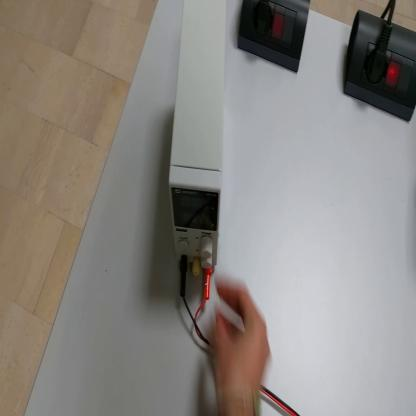hand: (214, 276, 271, 405)
power supply: (169, 2, 227, 278)
socket: (344, 7, 416, 121), (237, 1, 312, 75)
